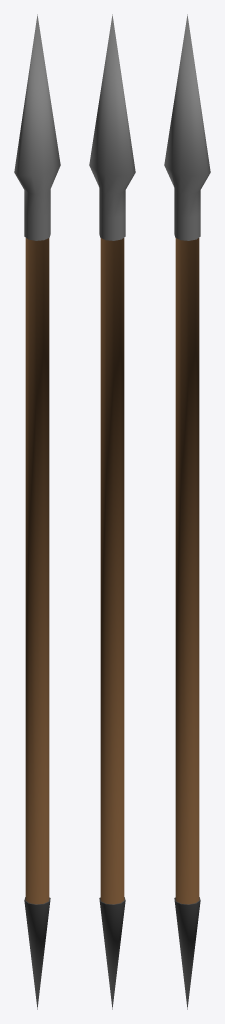
The model's file is IronSpear01.fbx.
3 renders of one model, left to right at view 1: azimuth 30°, elevation 25°; view 2: azimuth 150°, elevation 25°; view 3: azimuth 330°, elevation 25°, orthographic.
Visible parts, largest first — view 1: Icosphere; view 2: Icosphere; view 3: Icosphere.
Boxes of the visible parts, <box> form: Icosphere: <box>14,14,60,1009</box>; Icosphere: <box>89,14,135,1009</box>; Icosphere: <box>164,14,210,1009</box>.
Bounding box in the file's own units: 400 × 9000 × 220.
